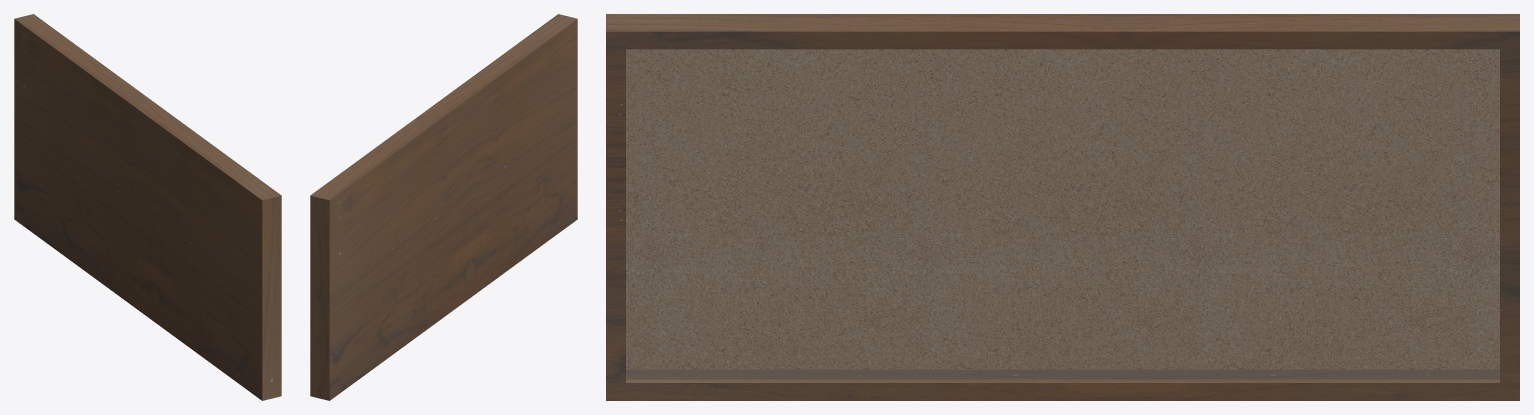
The picture shows the model from 3 angles, left to right: view 1: azimuth 30°, elevation 25°; view 2: azimuth 150°, elevation 25°; view 3: azimuth 270°, elevation 25°; orthographic projection. The views are drawn at different scales.
Visible parts, largest first — view 1: Tablon.004; view 2: Tablon.004; view 3: Tablon.004.
Part boxes in pixels (left/top/right/bottom): Tablon.004: left=14, top=14, right=281, bottom=400; Tablon.004: left=310, top=14, right=577, bottom=400; Tablon.004: left=606, top=14, right=1519, bottom=400.
Bounding box in the file's own units: 0.0907 × 2 × 0.8923.
3 materials, 2 textured.
